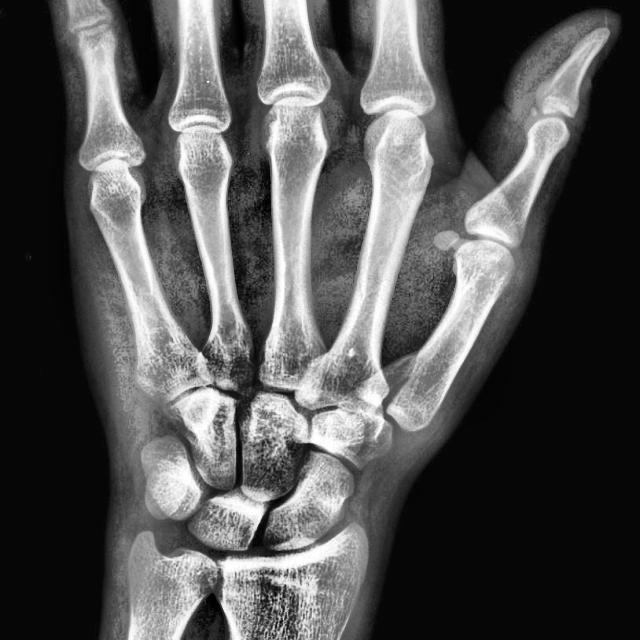fracture: (372, 354, 423, 418)
